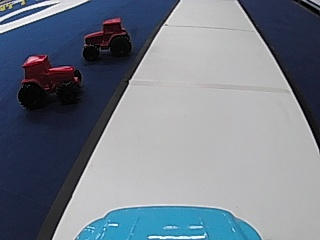Tracktor: (18, 51, 82, 109), (82, 15, 133, 60)
